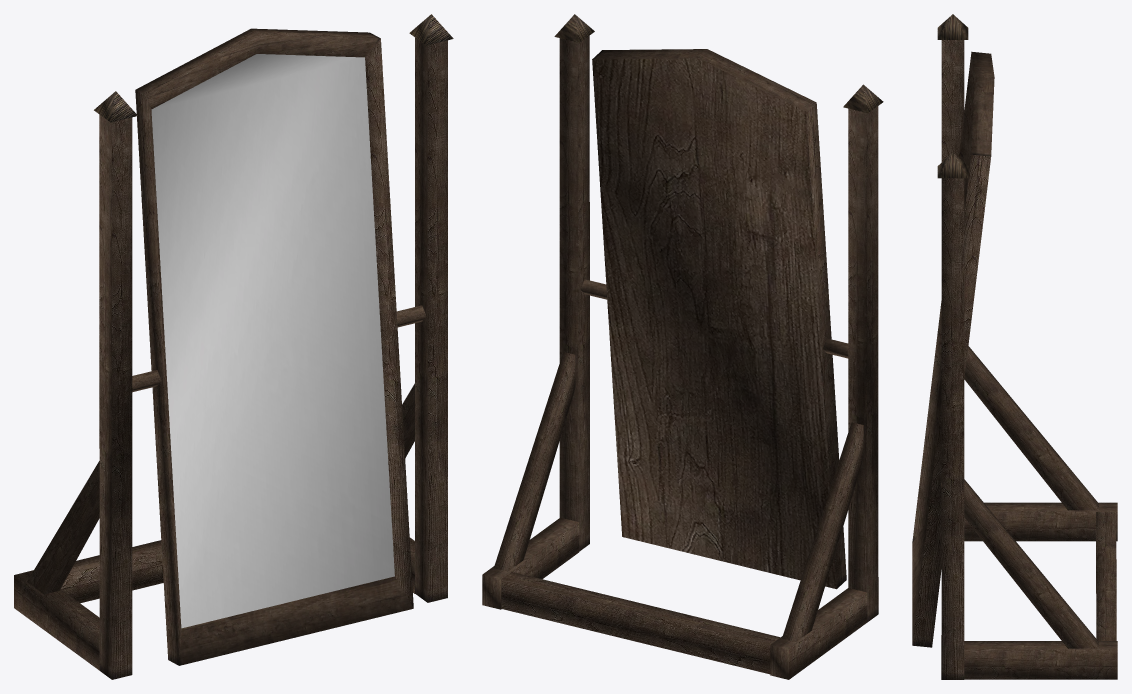
Rendered from GS_FURNITURE_MIRROR_01_KWIATEK.glb.
3 renders of one model, left to right at view 1: azimuth 30°, elevation 25°; view 2: azimuth 150°, elevation 25°; view 3: azimuth 270°, elevation 25°, orthographic. The views are drawn at different scales.
Visible parts, largest first — view 1: Mesh; view 2: Mesh; view 3: Mesh.
Part boxes in pixels (x1=…): Mesh: x1=14, y1=14, x2=453, y2=679; Mesh: x1=482, y1=14, x2=883, y2=679; Mesh: x1=912, y1=14, x2=1117, y2=679.
Size of the model in its own units: 1.29 by 2.12 by 0.741.
Materials: 2 (2 with a texture image).
